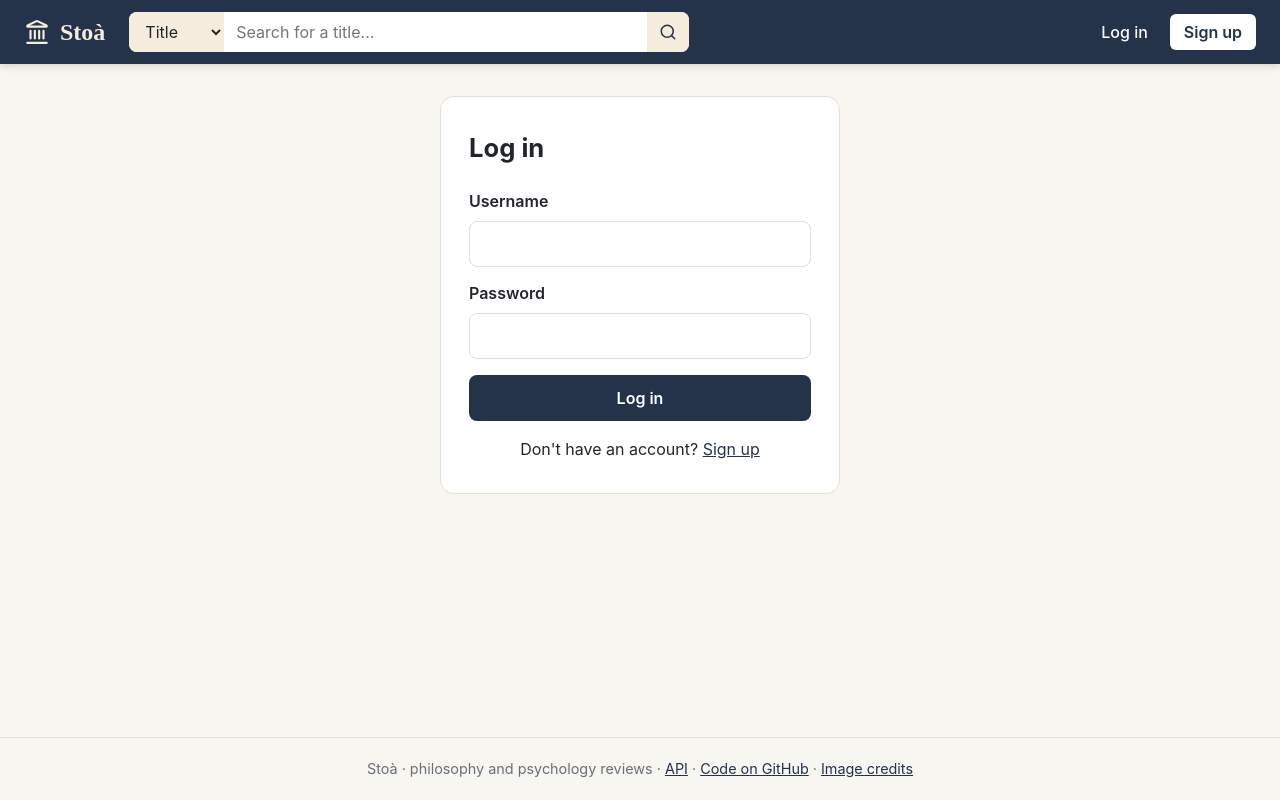
Test: login › shows the server error for wrong credentials
Type "mario" into the field labelled "Username". click: (640, 244)
box: [469,221,811,267]
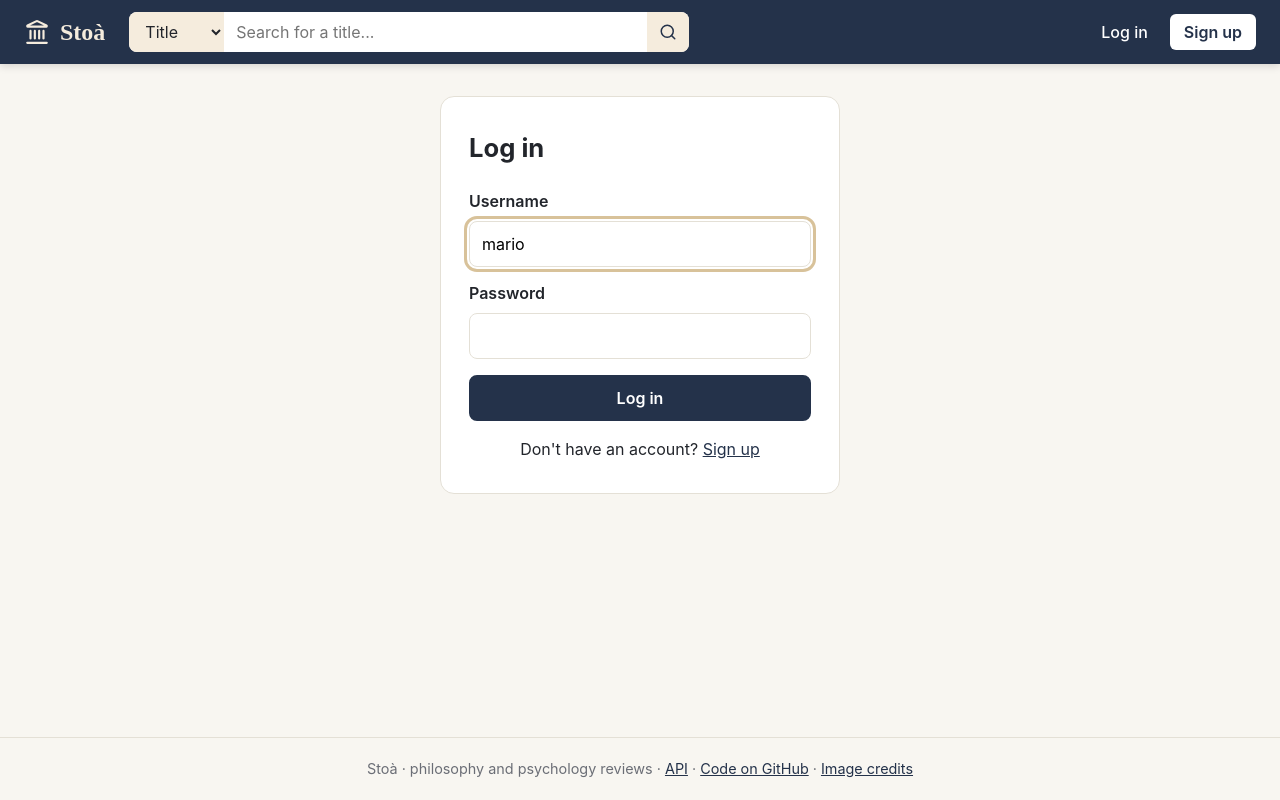
Type "sbagliata" into the password field labelled "Password". click: (640, 336)
box: [469,313,811,359]
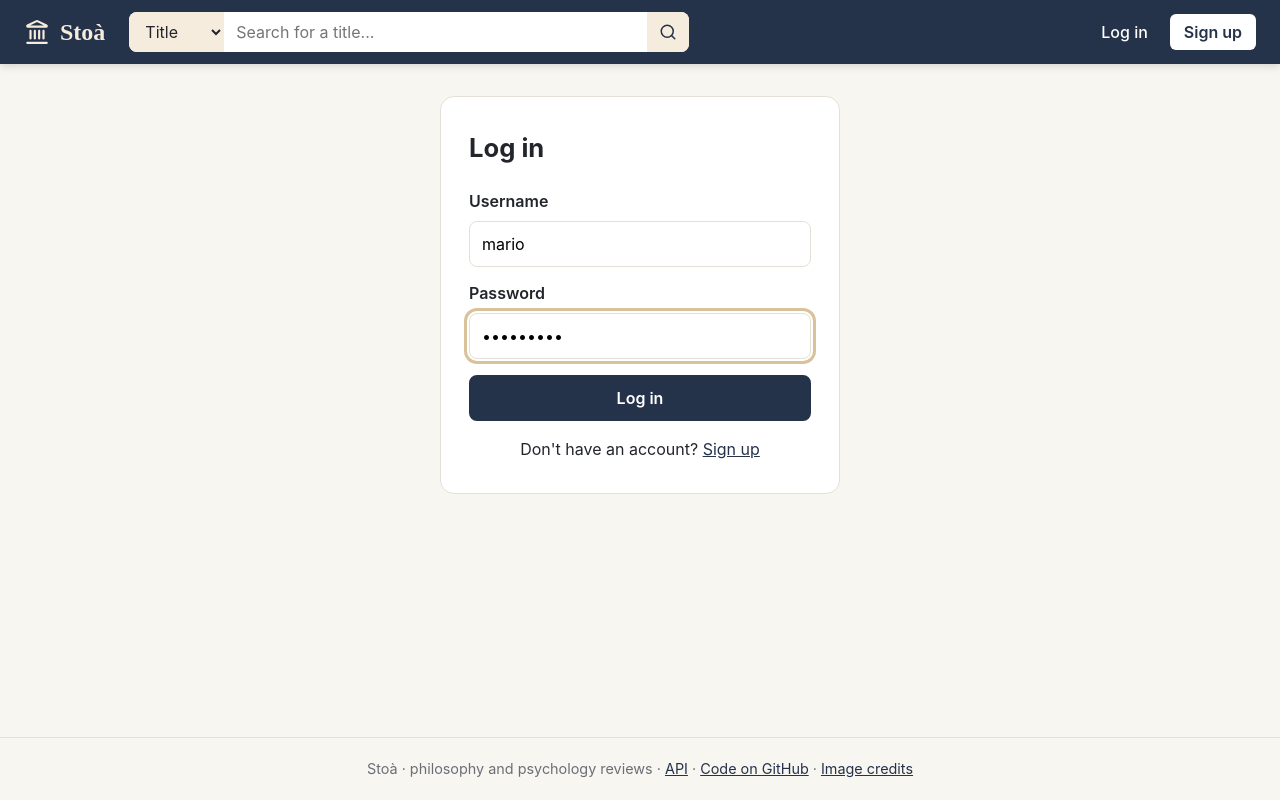
Click the button "Log in". click: (640, 398)
box: [469,375,811,421]
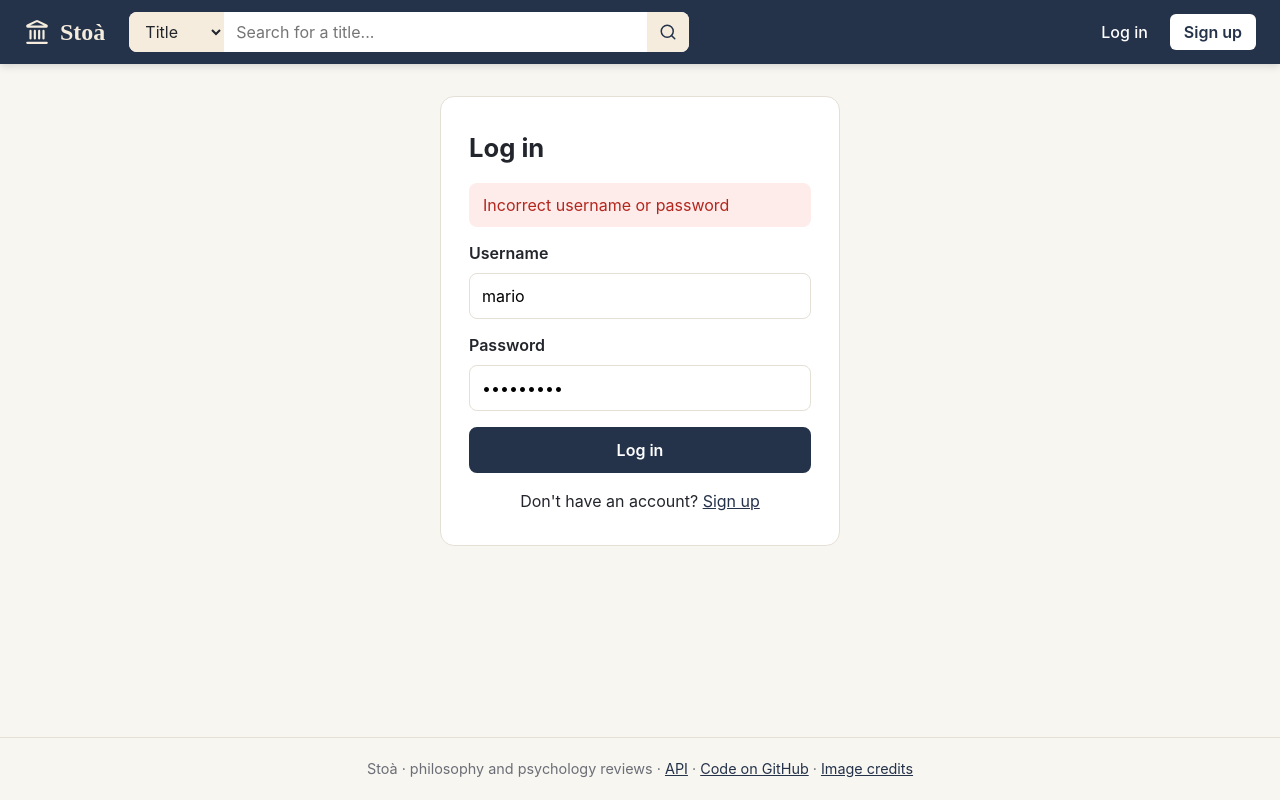
Result: the message reads "Incorrect username or password" at [483,195,729,215]
